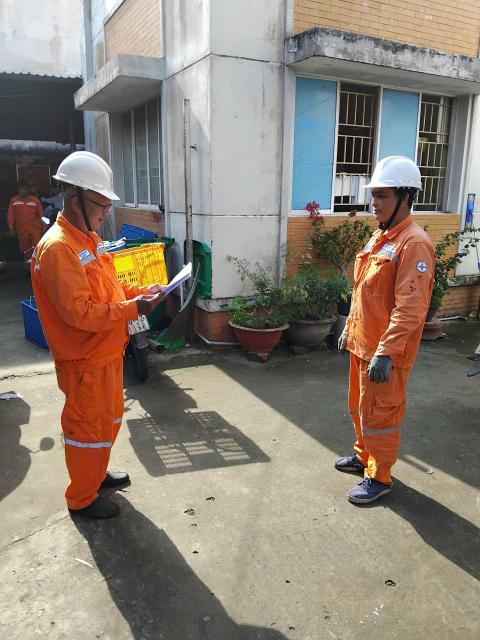gloves: (356, 344, 400, 394), (333, 319, 359, 354)
helmet: (57, 136, 137, 217), (352, 140, 428, 203)
shoes: (335, 467, 402, 509), (71, 457, 138, 493), (62, 493, 140, 522), (318, 447, 386, 471), (124, 291, 172, 310)
